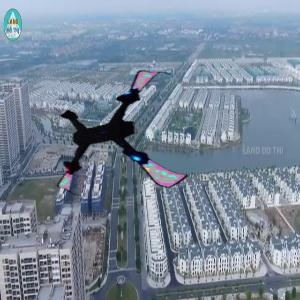drone: (53, 63, 189, 199)
